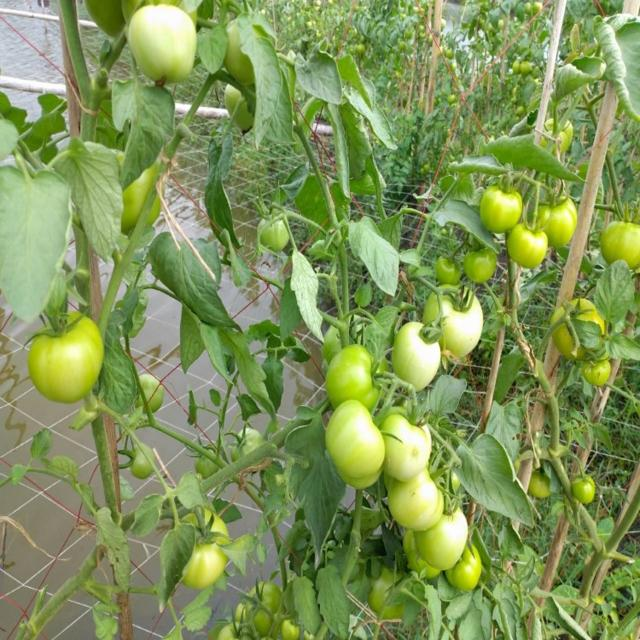tomato: (29, 312, 109, 407), (127, 4, 195, 87), (431, 287, 494, 366), (330, 395, 381, 485), (376, 414, 436, 477), (412, 505, 468, 572), (398, 319, 453, 386), (328, 343, 378, 407), (395, 468, 448, 528), (195, 521, 230, 587), (510, 224, 554, 270), (480, 186, 522, 233), (124, 163, 155, 226), (602, 217, 640, 265), (223, 31, 255, 83), (545, 198, 578, 246), (452, 546, 485, 592), (433, 245, 463, 284), (584, 363, 617, 396), (142, 376, 167, 419), (467, 250, 499, 282), (251, 583, 286, 607), (230, 425, 261, 451), (132, 449, 152, 485), (264, 223, 289, 251), (571, 293, 598, 318), (577, 471, 601, 499), (557, 124, 575, 156), (279, 618, 300, 640), (222, 623, 243, 640), (530, 477, 544, 500), (517, 61, 534, 78)
